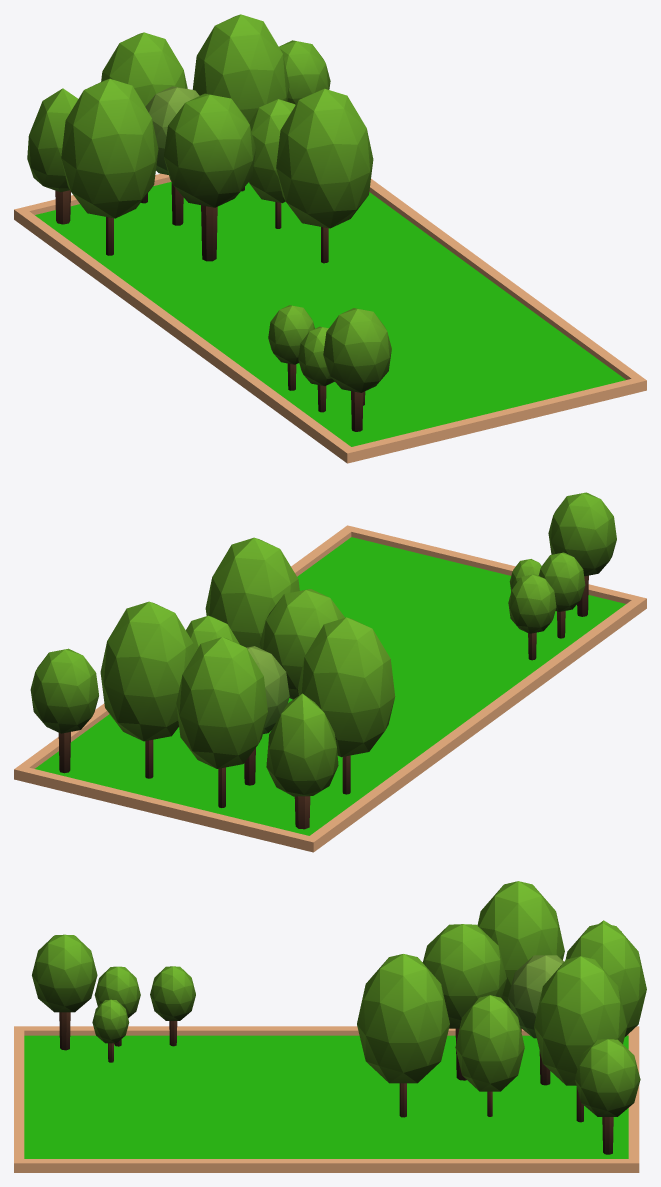
Rendered from block3.fbx.
The picture shows the model from 3 angles, top to bottom: view 1: azimuth 30°, elevation 25°; view 2: azimuth 150°, elevation 25°; view 3: azimuth 270°, elevation 25°; orthographic projection. The views are drawn at different scales.
Visible parts, largest first — view 1: Cube.556; view 2: Cube.556; view 3: Cube.556.
Part boxes in pixels (left/top/right/bottom): Cube.556: left=14, top=14, right=646, bottom=463; Cube.556: left=14, top=492, right=646, bottom=852; Cube.556: left=14, top=881, right=646, bottom=1172.
Bounding box in the file's own units: 29.24 × 17.57 × 55.32.
Materials: 1 (1 with a texture image).
